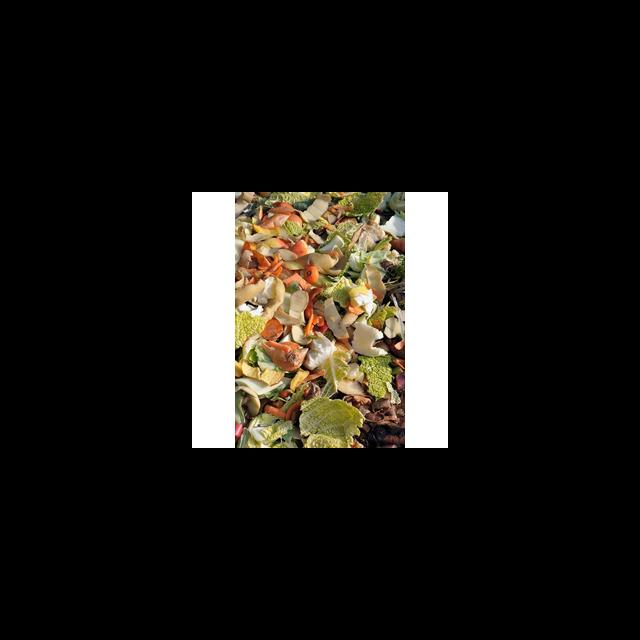food_waste: (237, 192, 406, 448)
